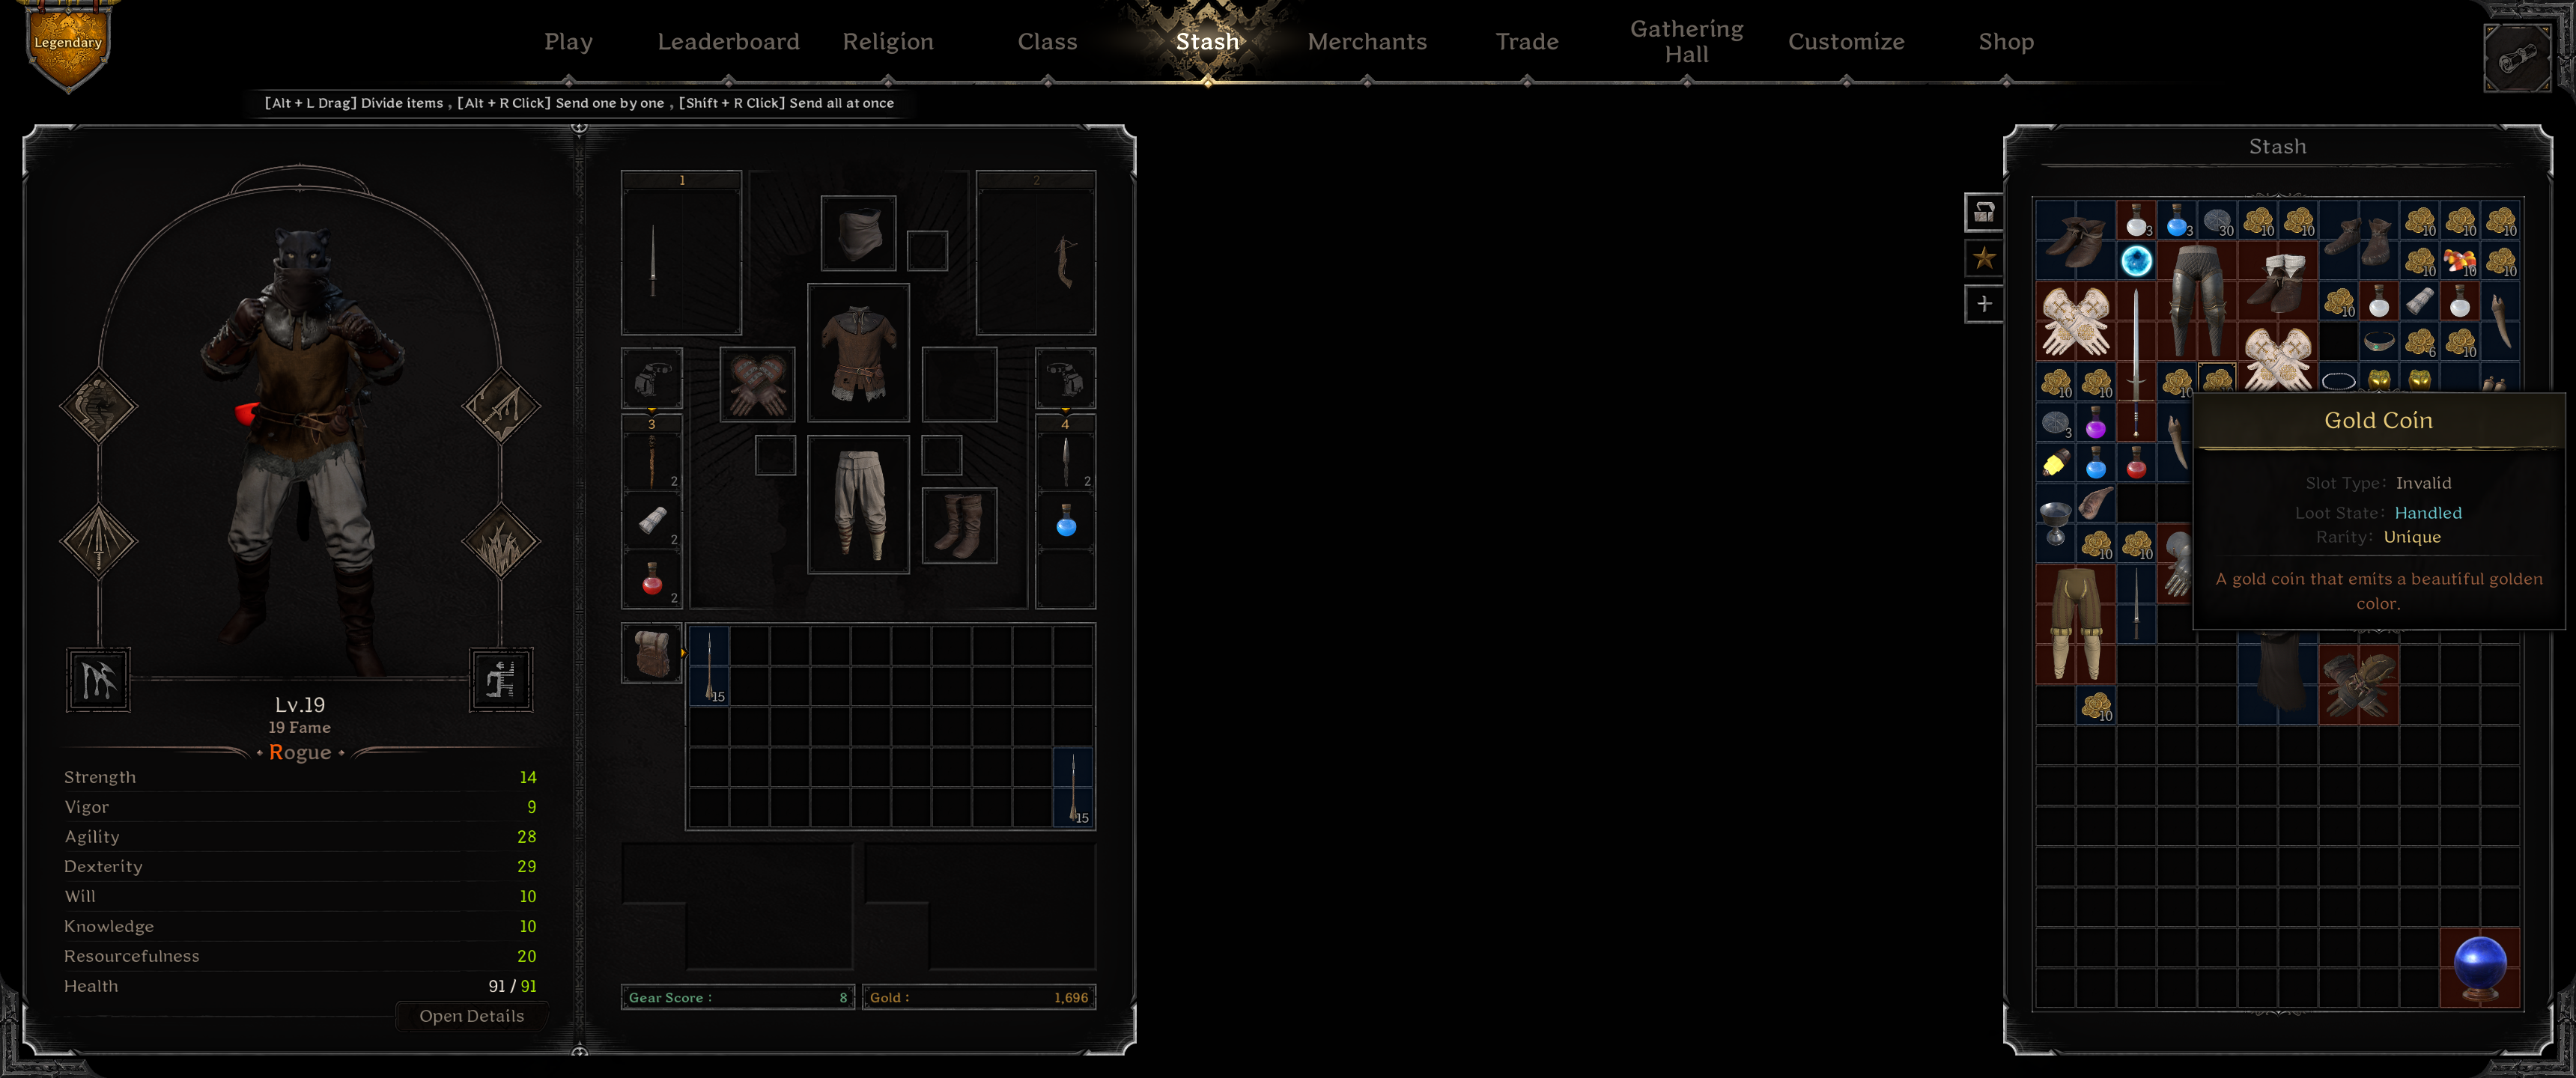Tooltip: (2192, 393, 2566, 631)
